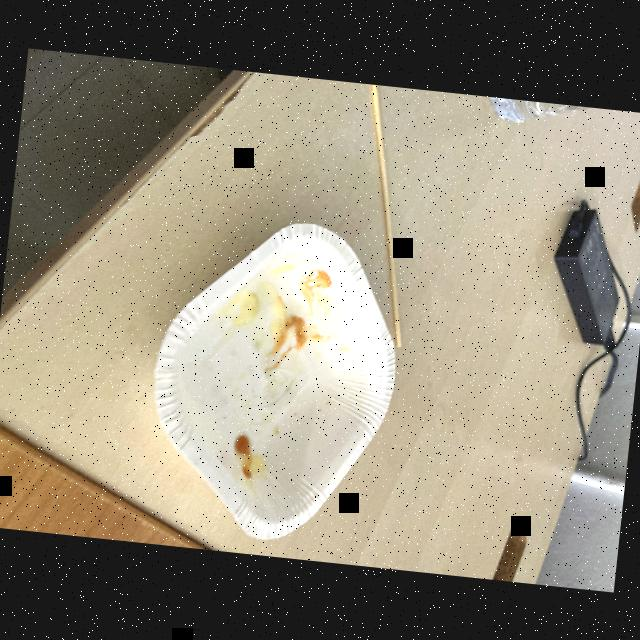cardboard_bowl: (127, 201, 418, 554)
stick: (340, 84, 434, 347)
